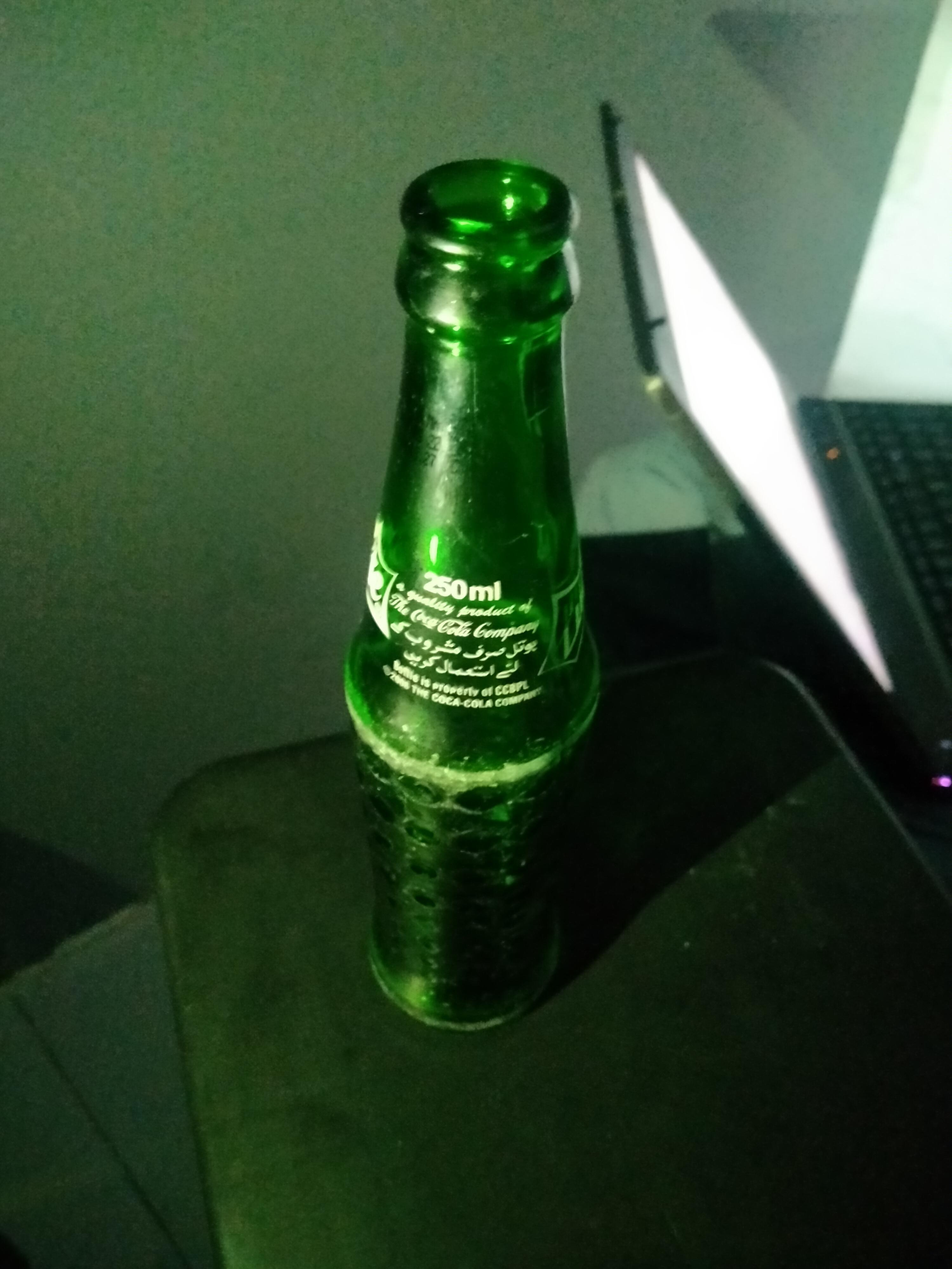bottle-glass: (334, 157, 609, 1035)
